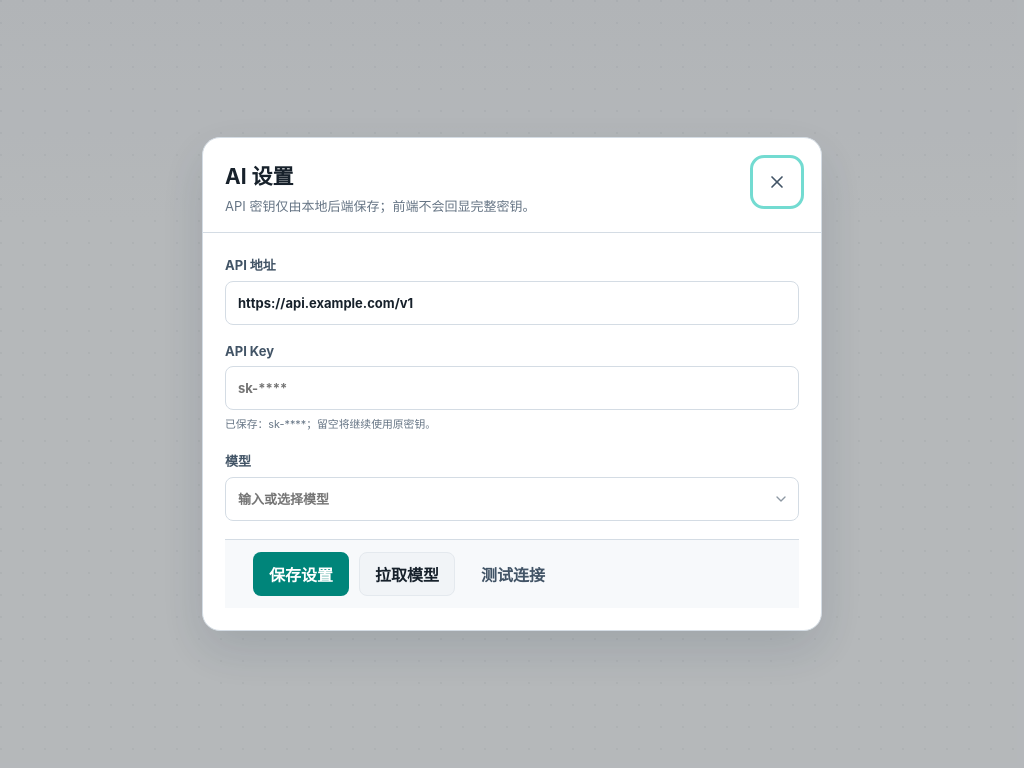
Scenario: AiSettingsDialog failure messages › shows backend Chinese message for a known test error and hides raw code
Click the button "测试连接" at x=513, y=574, box [465,552,561,596]
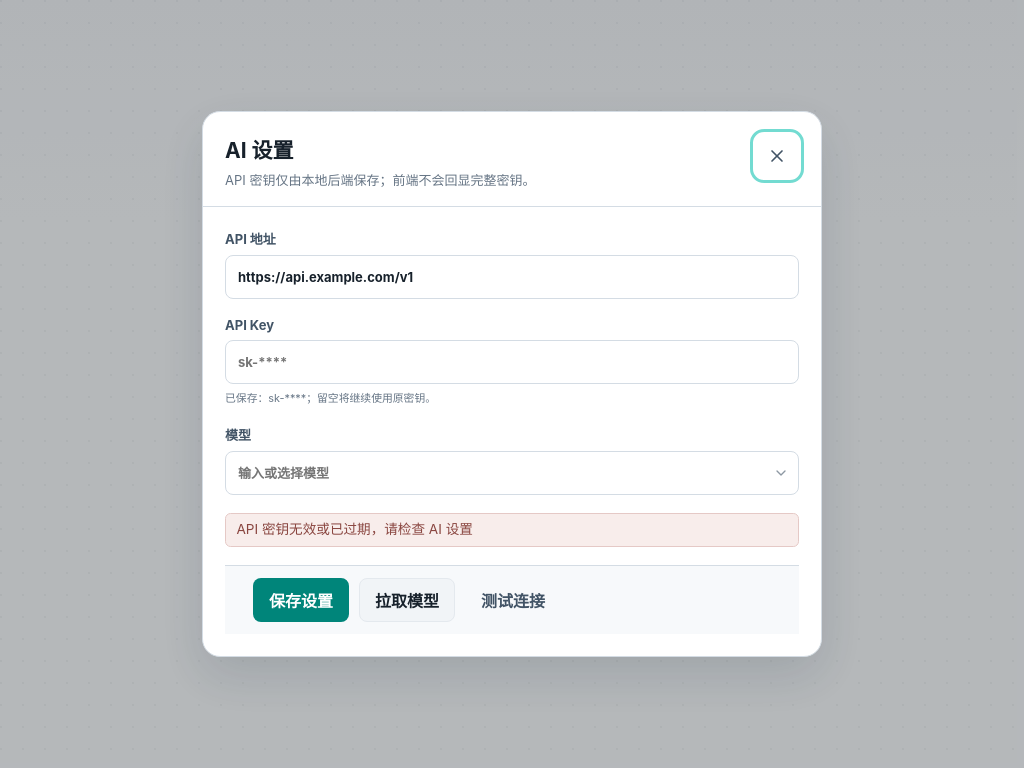
Expected: the message with class "ai-local-notice" shows "API 密钥无效或已过期", [236,521,473,537]
